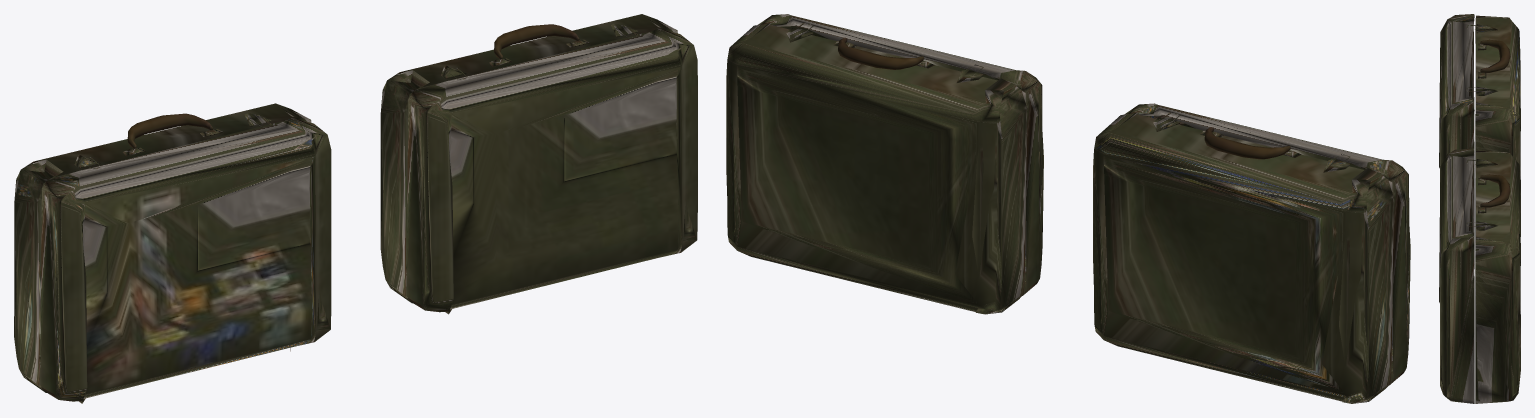
Rendered from backpack_koffer.glb.
3 renders of one model, left to right at view 1: azimuth 30°, elevation 25°; view 2: azimuth 150°, elevation 25°; view 3: azimuth 270°, elevation 25°, orthographic. The views are drawn at different scales.
Parts seen in each view (by area): view 1: vintage_suitcase_02_top, vintage_suitcase_01_top, vintage_suitcase_01_bottom, vintage_suitcase_02_bottom, vintage_suitcase_02_handle, vintage_suitcase_01_handle; view 2: vintage_suitcase_01_bottom, vintage_suitcase_02_bottom, vintage_suitcase_02_top, vintage_suitcase_01_top, vintage_suitcase_02_handle, vintage_suitcase_01_handle; view 3: vintage_suitcase_01_bottom, vintage_suitcase_01_top, vintage_suitcase_02_bottom, vintage_suitcase_02_top, vintage_suitcase_01_handle, vintage_suitcase_02_handle.
Part boxes in pixels (bbox=[...]): vintage_suitcase_02_top: bbox=[40, 117, 331, 403]; vintage_suitcase_01_top: bbox=[406, 28, 697, 314]; vintage_suitcase_01_bottom: bbox=[380, 14, 677, 303]; vintage_suitcase_02_bottom: bbox=[14, 103, 311, 392]; vintage_suitcase_02_handle: bbox=[127, 113, 213, 148]; vintage_suitcase_01_handle: bbox=[494, 24, 579, 59]; vintage_suitcase_01_bottom: bbox=[726, 23, 1027, 314]; vintage_suitcase_02_bottom: bbox=[1093, 112, 1393, 403]; vintage_suitcase_02_top: bbox=[1124, 103, 1410, 385]; vintage_suitcase_01_top: bbox=[758, 14, 1043, 295]; vintage_suitcase_02_handle: bbox=[1204, 127, 1290, 159]; vintage_suitcase_01_handle: bbox=[838, 37, 923, 69]; vintage_suitcase_01_bottom: bbox=[1475, 150, 1520, 403]; vintage_suitcase_01_top: bbox=[1439, 148, 1474, 403]; vintage_suitcase_02_bottom: bbox=[1475, 15, 1520, 248]; vintage_suitcase_02_top: bbox=[1439, 14, 1474, 268]; vintage_suitcase_01_handle: bbox=[1480, 174, 1510, 207]; vintage_suitcase_02_handle: bbox=[1480, 39, 1510, 72].
Size of the model in its own units: 1.61 by 0.567 by 0.2351.
2 materials, 2 textured.
